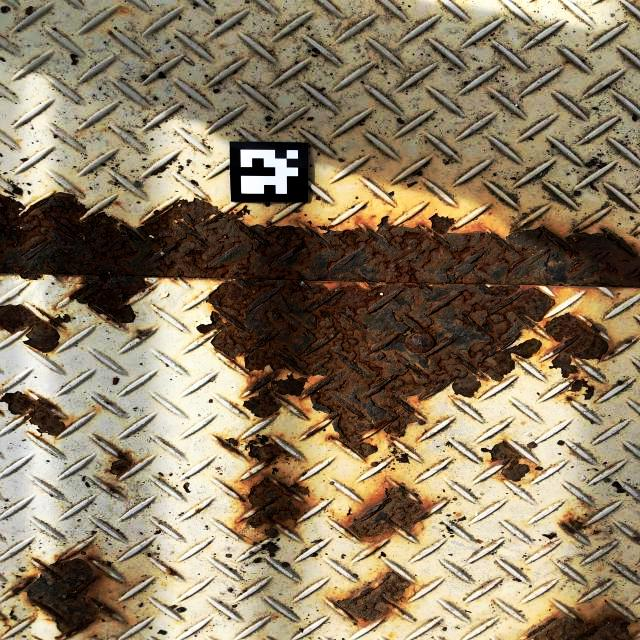Corrosion: (0, 191, 640, 459), (0, 544, 129, 640), (213, 434, 311, 545), (542, 312, 635, 403), (337, 478, 441, 557), (326, 567, 418, 629), (521, 603, 640, 640), (0, 388, 78, 440), (0, 304, 73, 355), (479, 439, 532, 483), (102, 450, 144, 479), (558, 512, 587, 534), (100, 480, 123, 494), (135, 328, 155, 341), (161, 564, 177, 576), (630, 535, 640, 544), (592, 530, 602, 535), (0, 408, 5, 417), (195, 508, 200, 513)
